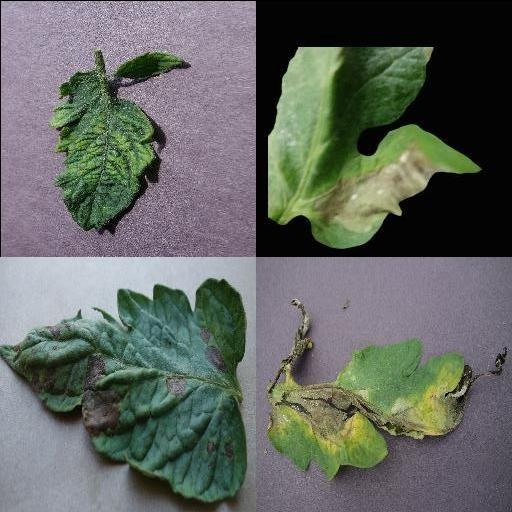Early Blight: (0, 276, 245, 503)
Late Blight: (264, 300, 512, 482), (269, 47, 485, 247)
Mosaic Virus: (47, 68, 155, 230), (119, 50, 187, 80)
